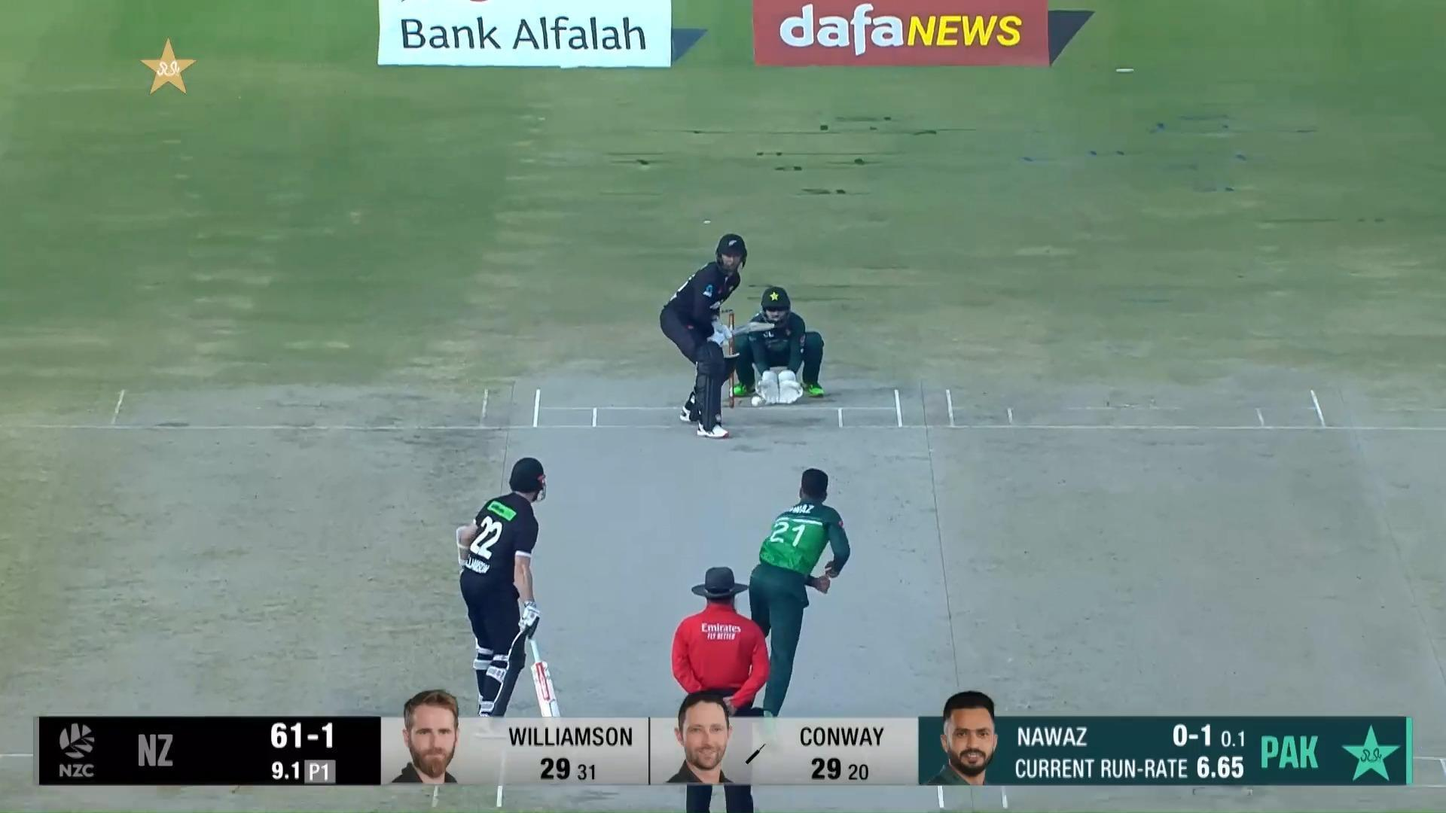BM 1: (661, 234, 776, 438)
BO: (737, 467, 851, 719)
